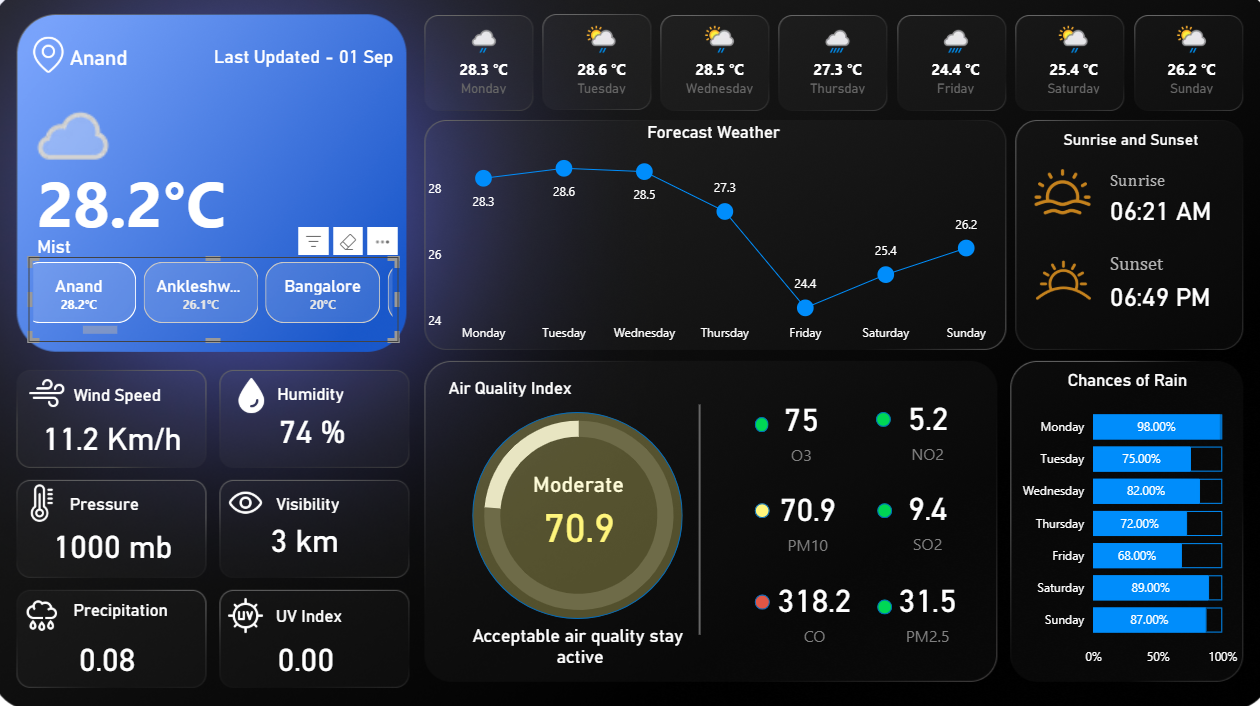

The dashboard page shown, as its layout file describes it:
{"tool":"powerbi","page":{"name":"Page 1","canvas":[1280,720],"ordinal":0},"visuals":[{"type":"advancedSlicerVisual","fields":{"Values":["Location.location.name"]},"box":[37.2,265.1,369.8,84.9],"z":0},{"type":"shape","box":[46.7,163.3,227.8,91.1],"z":1000},{"type":"shape","box":[46.7,235.6,184.4,37.8],"z":2000},{"type":"shape","box":[78.9,45.6,144.4,40],"z":3000},{"type":"shape","box":[201.1,45.6,201.1,40],"z":4000},{"type":"image","box":[25.6,40,64.4,45.6],"z":5000},{"type":"cardVisual","fields":{"Data":["Min(Current data.current.condition.icon)"]},"box":[11.1,77.8,127.8,102.2],"z":6000},{"type":"image","box":[223.3,486.7,62.2,48.9],"z":7000},{"type":"shape","box":[285.6,493.3,157.8,35.6],"z":8000},{"type":"shape","box":[286,383.7,157,34.9],"z":9000},{"type":"shape","box":[285.6,606.7,157.8,35.6],"z":10000},{"type":"shape","box":[82.2,384.4,157.8,35.6],"z":11000},{"type":"shape","box":[78.9,493.3,157.8,35.6],"z":12000},{"type":"shape","box":[82.2,600,157.8,35.6],"z":13000},{"type":"image","box":[229.1,380.2,62.8,47.7],"z":14000},{"type":"image","box":[25.6,377.8,62.2,47.8],"z":15000},{"type":"image","box":[20,487.8,62.2,47.8],"z":16000},{"type":"image","box":[223.3,600,62.2,47.8],"z":17000},{"type":"image","box":[20,600,62.2,47.8],"z":18000},{"type":"card","fields":{"Values":["_Measures.humidity"]},"box":[275.6,420,90,46.7],"z":19000},{"type":"card","fields":{"Values":["_Measures.wind speed"]},"box":[25.6,412.2,190,74.4],"z":20000},{"type":"card","fields":{"Values":["_Measures.Pressure"]},"box":[37.8,535.6,166.7,46.7],"z":21000},{"type":"card","fields":{"Values":["Sum(Current data.current.precip_mm)"]},"box":[57.8,647.8,115.6,46.7],"z":22000},{"type":"card","fields":{"Values":["Sum(Current data.current.uv)"]},"box":[254.4,647.8,117.8,46.7],"z":23000},{"type":"card","fields":{"Values":["_Measures.visibility"]},"box":[260,528.9,105.6,46.7],"z":24000},{"type":"advancedSlicerVisual","fields":{"Values":["Forecast Day.day"]},"box":[432.5,22.5,830,85],"z":25000},{"type":"lineChart","title":"Forecast Weather","fields":{"Y":["Sum(Forecast Day.forecast.forecastday.day.avgtemp_c)"],"Category":["Forecast Day.day"]},"box":[433.1,129.5,580.1,229.3],"z":26000},{"type":"shape","box":[1061.2,128.8,157.5,36.2],"z":27000},{"type":"shape","box":[1118.4,199.7,132.2,37.8],"z":28000},{"type":"shape","box":[1118.8,288.8,131.2,32.5],"z":29000},{"type":"shape","box":[1118.8,255,157.5,36.2],"z":30000},{"type":"shape","box":[1118.4,170,99.8,39.1],"z":31000},{"type":"image","box":[1030.7,244.2,82.3,89],"z":32000},{"type":"image","box":[1038.8,163.2,66.1,71.5],"z":33000},{"type":"hundredPercentStackedBarChart","title":"Chances of Rain","fields":{"Y":["Sum(Forecast Day.forecast.forecastday.day.daily_chance_of_rain)","Current data.left rain value"],"Category":["Forecast Day.day"]},"box":[1020.9,377.9,230.2,305.8],"z":34000},{"type":"shape","box":[457,377.9,157,34.9],"z":35000},{"type":"card","fields":{"Values":["Sum(Current data.current.air_quality.o3)"]},"box":[764.9,403.4,89,76.9],"z":36000},{"type":"card","fields":{"Values":["Sum(Current data.current.air_quality.no2)"]},"box":[891.7,402,89,76.9],"z":37000},{"type":"card","fields":{"Values":["Sum(Current data.current.air_quality.pm10)"]},"box":[771.7,488.4,89,86.3],"z":38000},{"type":"card","fields":{"Values":["Sum(Current data.current.air_quality.so2)"]},"box":[891.7,492.4,89,76.9],"z":39000},{"type":"card","fields":{"Values":["Sum(Current data.current.air_quality.co)"]},"box":[771.7,585.5,102.5,76.9],"z":40000},{"type":"card","fields":{"Values":["Sum(Current data.current.air_quality.pm2_5)"]},"box":[891.7,585.5,89,76.9],"z":41000},{"type":"shape","box":[763.6,511.3,14.8,14.8],"z":42000},{"type":"shape","box":[764,602.3,15.1,15.1],"z":43000},{"type":"shape","box":[885,419.6,14.8,14.8],"z":44000},{"type":"shape","box":[886.3,511.3,14.8,14.8],"z":45000},{"type":"shape","box":[886.3,607.1,14.8,14.8],"z":46000},{"type":"shape","box":[764,425.6,14,15.1],"z":47000},{"type":"shape","box":[665.1,412.8,87.2,230.2],"z":48000},{"type":"card","fields":{"Values":["Sum(Current data.current.air_quality.pm10)"]},"box":[522.1,480.2,129.1,86],"z":49000},{"type":"donutChart","fields":{"Y":["_Measures.leftvaluepm10","Sum(Current data.current.air_quality.pm10)"]},"box":[437.2,404.7,298.8,247.7],"z":50000},{"type":"shape","box":[481.4,419.8,210.5,207],"z":50001},{"type":"card","fields":{"Values":["_Measures.AQIsuggestion"]},"box":[466.3,626.7,239.5,67.4],"z":50002}]}

Visuals, with their boxes in screenshot pixels (x1, y1, x2, y2), scaled from the page's 1280x720 canvas onto the 1260x706 screenshot:
advancedSlicerVisual - Location.location.name: box(37, 260, 401, 343)
shape: box(46, 160, 270, 249)
shape: box(46, 231, 227, 268)
shape: box(78, 45, 220, 84)
shape: box(198, 45, 396, 84)
image: box(25, 39, 89, 84)
cardVisual - Min(Current data.current.condition.icon): box(11, 76, 137, 176)
image: box(220, 477, 281, 525)
shape: box(281, 484, 436, 519)
shape: box(282, 376, 436, 410)
shape: box(281, 595, 436, 630)
shape: box(81, 377, 236, 412)
shape: box(78, 484, 233, 519)
shape: box(81, 588, 236, 623)
image: box(226, 373, 287, 420)
image: box(25, 370, 86, 417)
image: box(20, 478, 81, 525)
image: box(220, 588, 281, 635)
image: box(20, 588, 81, 635)
card - _Measures.humidity: box(271, 412, 360, 458)
card - _Measures.wind speed: box(25, 404, 212, 477)
card - _Measures.Pressure: box(37, 525, 201, 571)
card - Sum(Current data.current.precip_mm): box(57, 635, 171, 681)
card - Sum(Current data.current.uv): box(250, 635, 366, 681)
card - _Measures.visibility: box(256, 519, 360, 564)
advancedSlicerVisual - Forecast Day.day: box(426, 22, 1243, 105)
"Forecast Weather" lineChart: box(426, 127, 997, 352)
shape: box(1045, 126, 1200, 162)
shape: box(1101, 196, 1231, 233)
shape: box(1101, 283, 1230, 315)
shape: box(1101, 250, 1256, 286)
shape: box(1101, 167, 1199, 205)
image: box(1015, 239, 1096, 327)
image: box(1023, 160, 1088, 230)
"Chances of Rain" hundredPercentStackedBarChart: box(1005, 371, 1232, 670)
shape: box(450, 371, 604, 405)
card - Sum(Current data.current.air_quality.o3): box(753, 396, 841, 471)
card - Sum(Current data.current.air_quality.no2): box(878, 394, 965, 470)
card - Sum(Current data.current.air_quality.pm10): box(760, 479, 847, 564)
card - Sum(Current data.current.air_quality.so2): box(878, 483, 965, 558)
card - Sum(Current data.current.air_quality.co): box(760, 574, 861, 650)
card - Sum(Current data.current.air_quality.pm2_5): box(878, 574, 965, 650)
shape: box(752, 501, 766, 516)
shape: box(752, 591, 767, 605)
shape: box(871, 411, 886, 426)
shape: box(872, 501, 887, 516)
shape: box(872, 595, 887, 610)
shape: box(752, 417, 766, 432)
shape: box(655, 405, 741, 630)
card - Sum(Current data.current.air_quality.pm10): box(514, 471, 641, 555)
donutChart - _Measures.leftvaluepm10 x Sum(Current data.current.air_quality.pm10): box(430, 397, 724, 640)
shape: box(474, 412, 681, 615)
card - _Measures.AQIsuggestion: box(459, 615, 695, 681)
